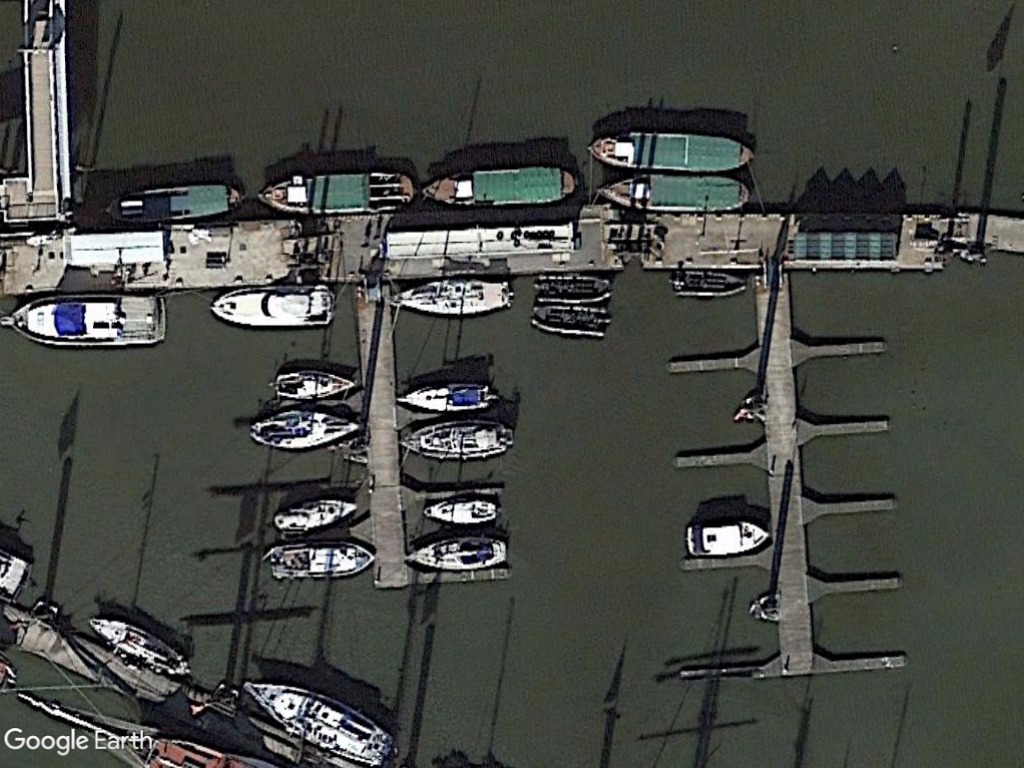boat: (240, 676, 394, 768), (4, 289, 173, 352), (578, 126, 765, 176), (256, 164, 416, 217), (595, 166, 751, 218), (419, 162, 581, 212), (98, 177, 248, 229), (84, 611, 195, 678), (204, 279, 336, 332), (389, 274, 515, 323), (396, 417, 517, 465), (246, 406, 364, 451), (263, 536, 375, 582), (403, 532, 510, 575), (678, 516, 770, 563), (395, 377, 497, 418), (267, 492, 358, 536), (270, 365, 356, 404), (419, 495, 502, 530)
